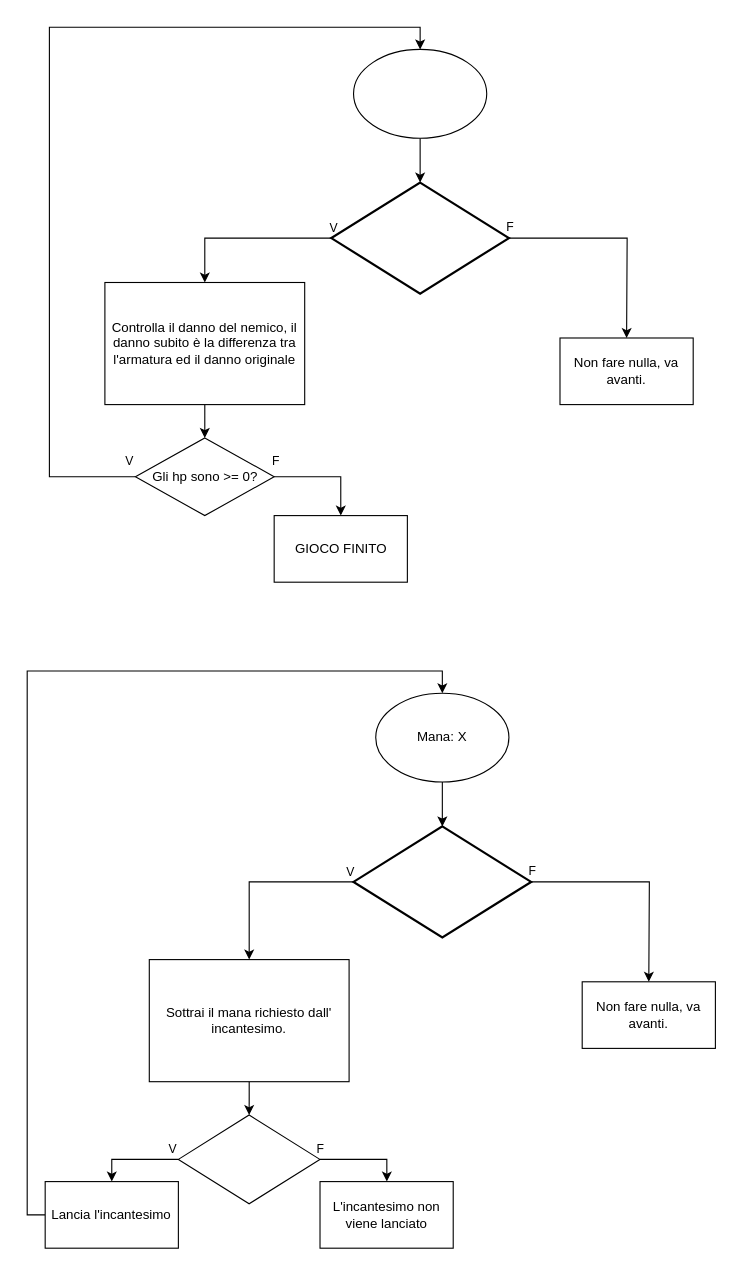
This 735x1268 diagram has some shape labels left out. The shapes that lost their labels are listed below. From the top down, each one's centre as x and y in pixels, then its label:
At point (419, 93): "Salute: X".
At point (419, 237): "Viene danneggiato?".
At point (442, 881): "Esegue l'incantesimo?".
At point (248, 1159): "C'è abbastanza mana?".
